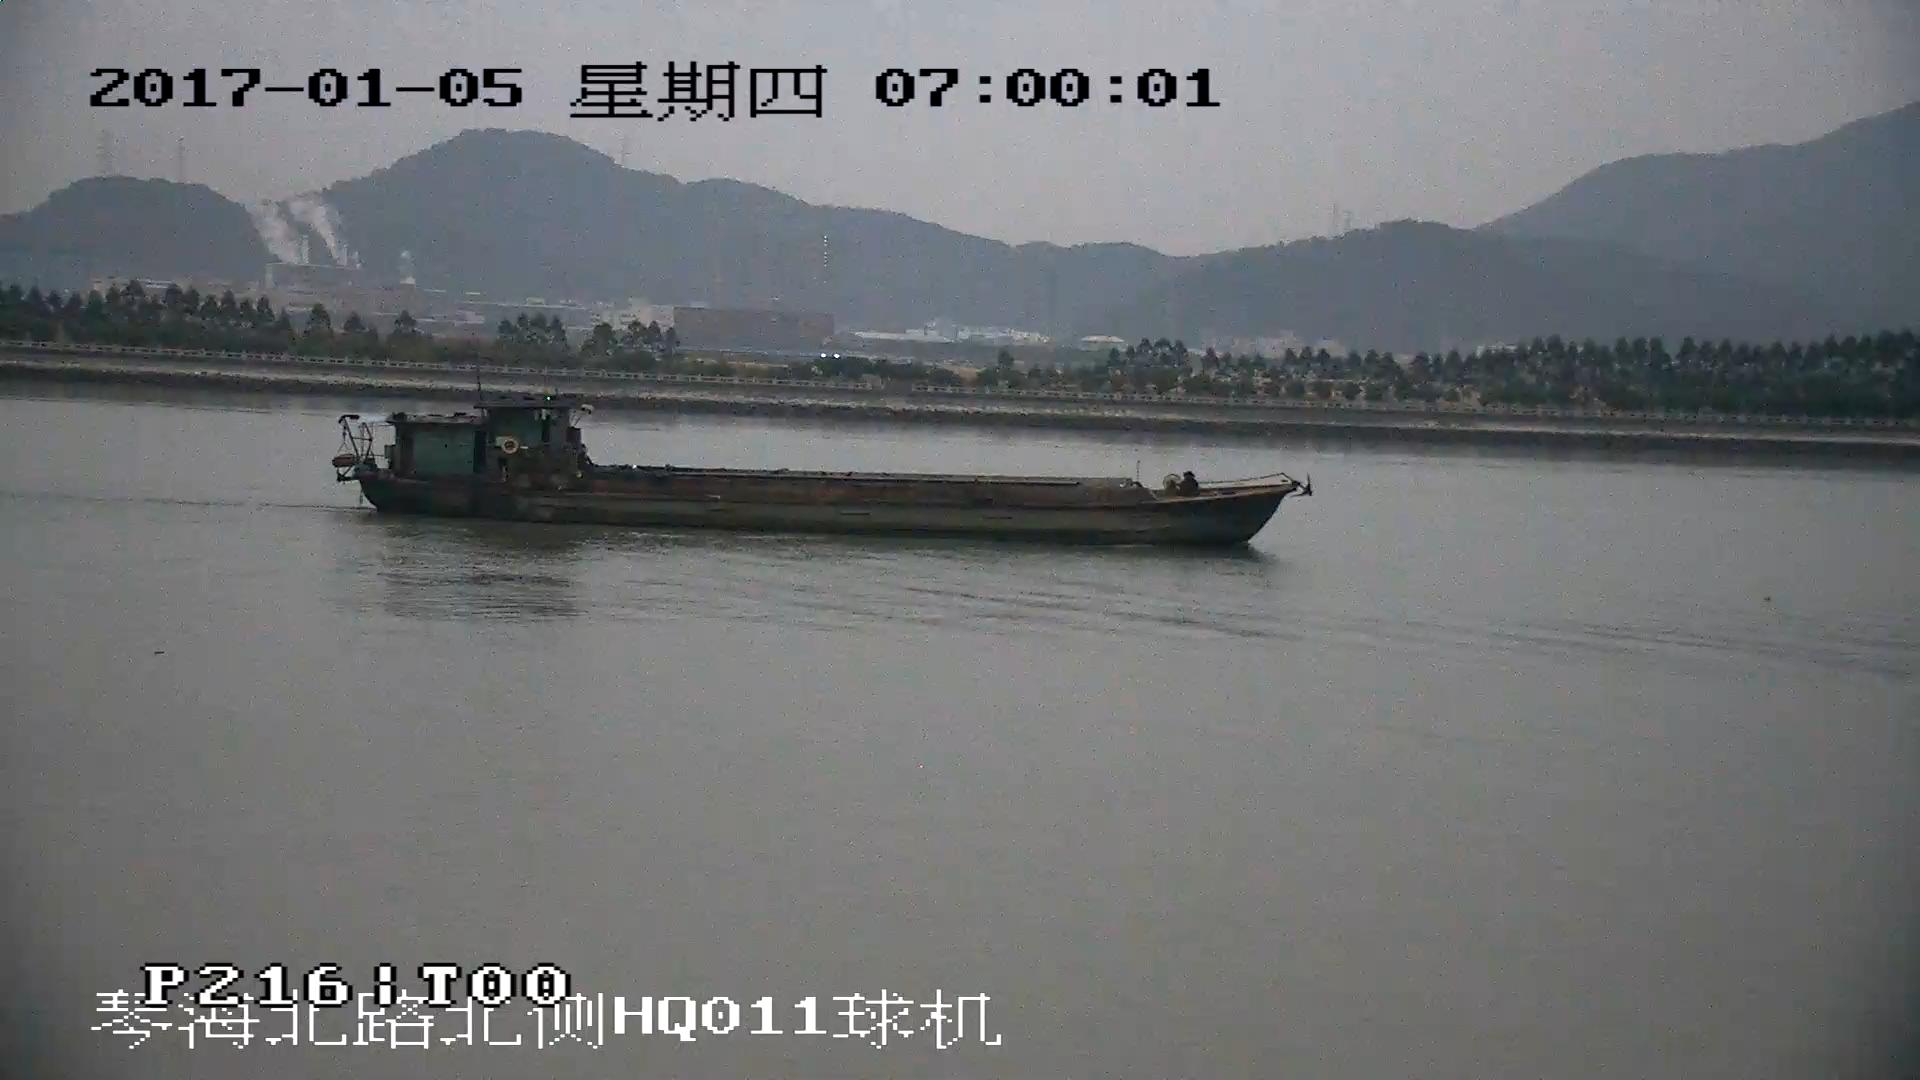bulk cargo carrier: (328, 399, 1316, 546)
